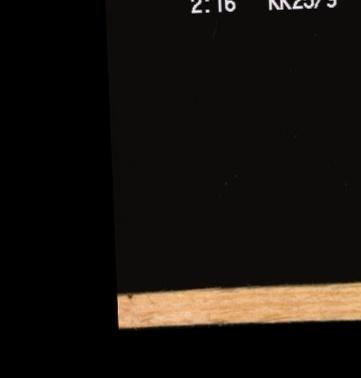edge_knot: (122, 290, 139, 303)
